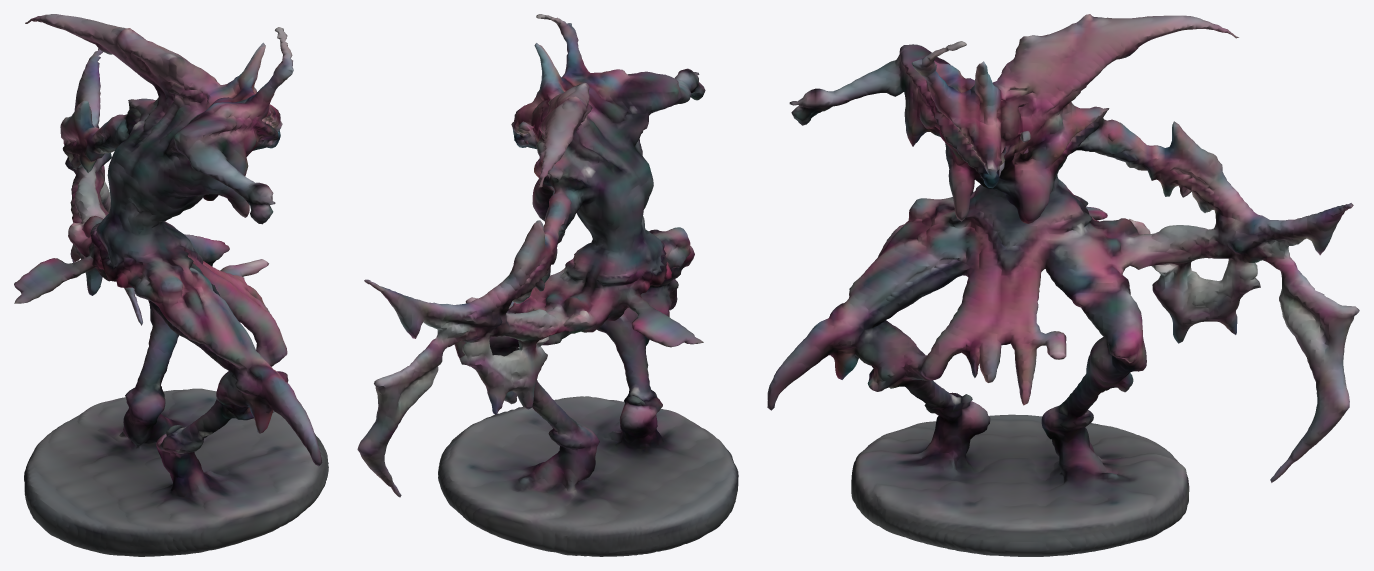
File: MESH_GeneratedChoic240716-185655.glb
3 renders of one model, left to right at view 1: azimuth 30°, elevation 25°; view 2: azimuth 150°, elevation 25°; view 3: azimuth 270°, elevation 25°, orthographic. The views are drawn at different scales.
Visible parts, largest first — view 1: mesh.glb; view 2: mesh.glb; view 3: mesh.glb.
Part boxes in pixels (x1,y1,x2,y2): mesh.glb: (14, 14, 328, 556); mesh.glb: (357, 14, 738, 556); mesh.glb: (767, 14, 1359, 556).
Bounding box in the file's own units: 0.5302 × 0.8835 × 0.9129.
